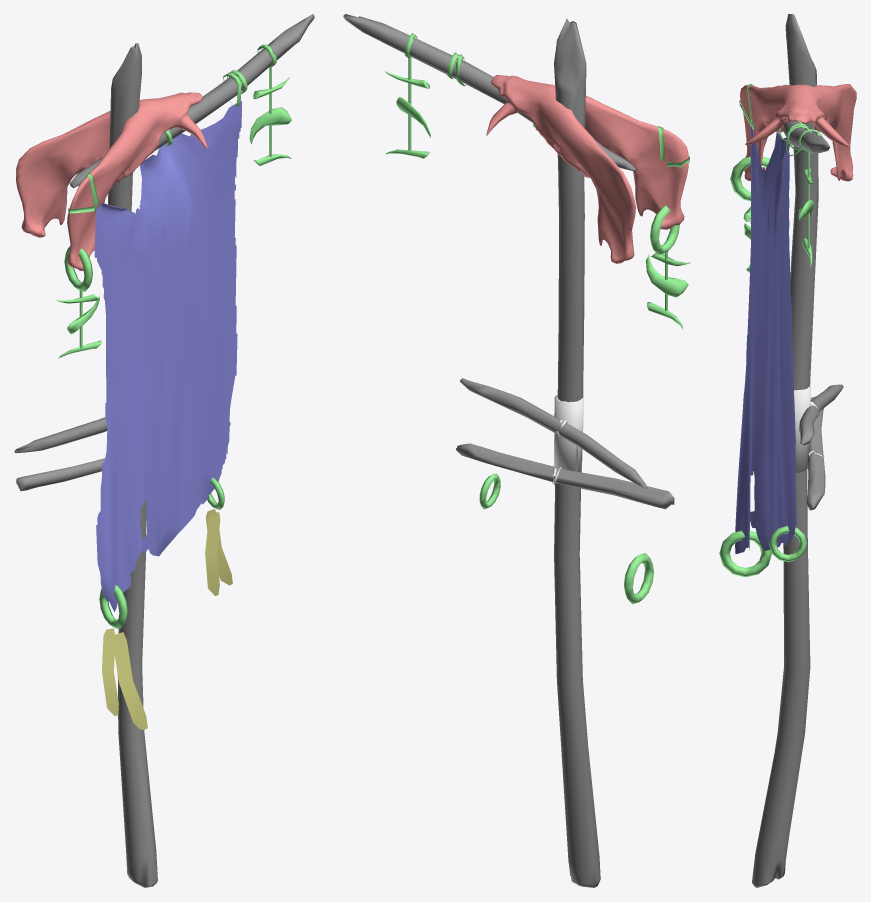
The model's file is banner_generic_village_C.gltf.
3 views of the same model, side by side, from view 1: azimuth 30°, elevation 25°; view 2: azimuth 150°, elevation 25°; view 3: azimuth 270°, elevation 25° (orthographic). The views are drawn at different scales.
Visible parts, largest first — view 1: banner_generic_village_C; view 2: banner_generic_village_C; view 3: banner_generic_village_C.
Part boxes in pixels (x1,y1,x2,y2): banner_generic_village_C: (14, 14, 314, 887); banner_generic_village_C: (343, 14, 690, 887); banner_generic_village_C: (719, 14, 856, 887).
Bounding box in the file's own units: 1.11 × 2.91 × 0.4139.
